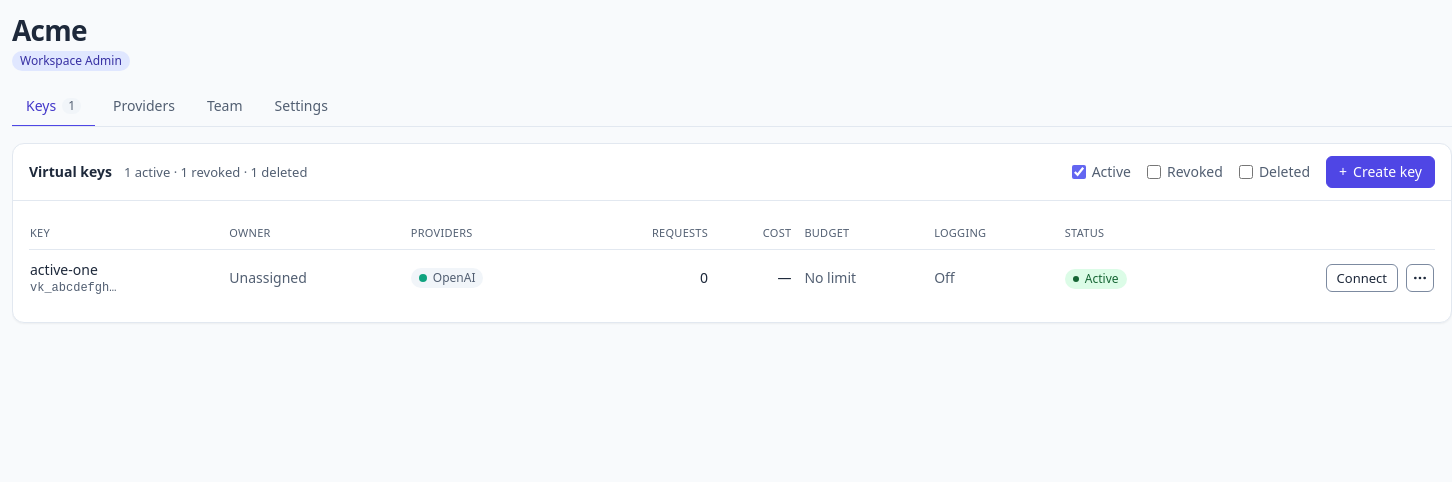
Scenario: Workspace -> deleted keys › keeps deleted keys out of the list until Deleted is ticked, then shows them without actions
The image size is (1452, 482).
expect the text "active-one" is shown: met, box [30,260,98,279]
expect the text "1 active · 1 revoked · 1 deleted" is shown: met, box [124,163,307,181]
Click the checkbox labelled "Deleted". click: (1246, 172)
box: [1239,165,1253,179]
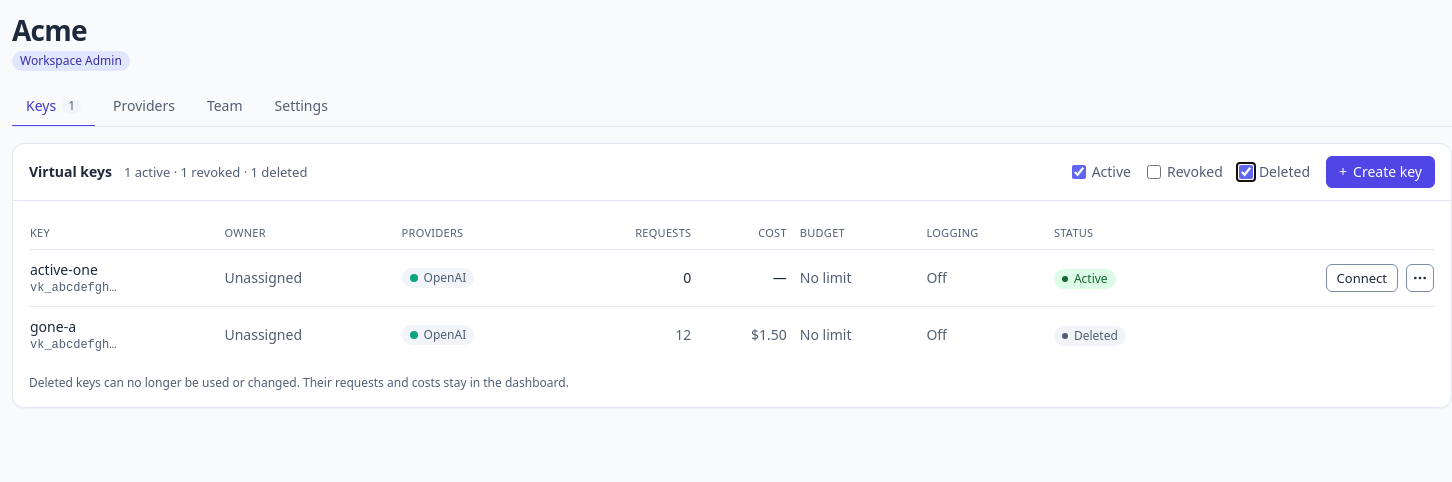
expect the text "gone-a" is shown: met, box [30,317,76,336]
expect the text "Deleted" is shown: met, box [1054,326,1126,346]
expect the text "12" is shown: met, box [568,307,703,363]
even with revoked keys shown, a deleted key is listed once
Click the checkbox labelled "Revoked". click: (1154, 172)
box: [1147,165,1161,179]
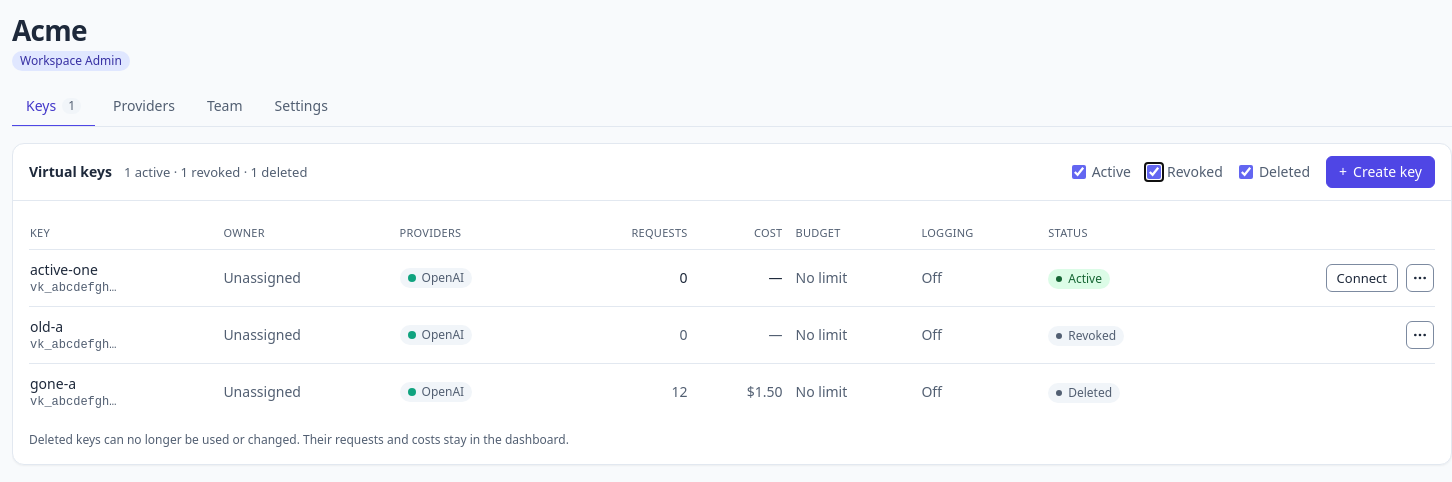
expect the text "gone-a" is shown once: met, box [30,374,76,393]
Click the checkbox labelled "Deleted". click: (1246, 172)
box: [1239,165,1253,179]
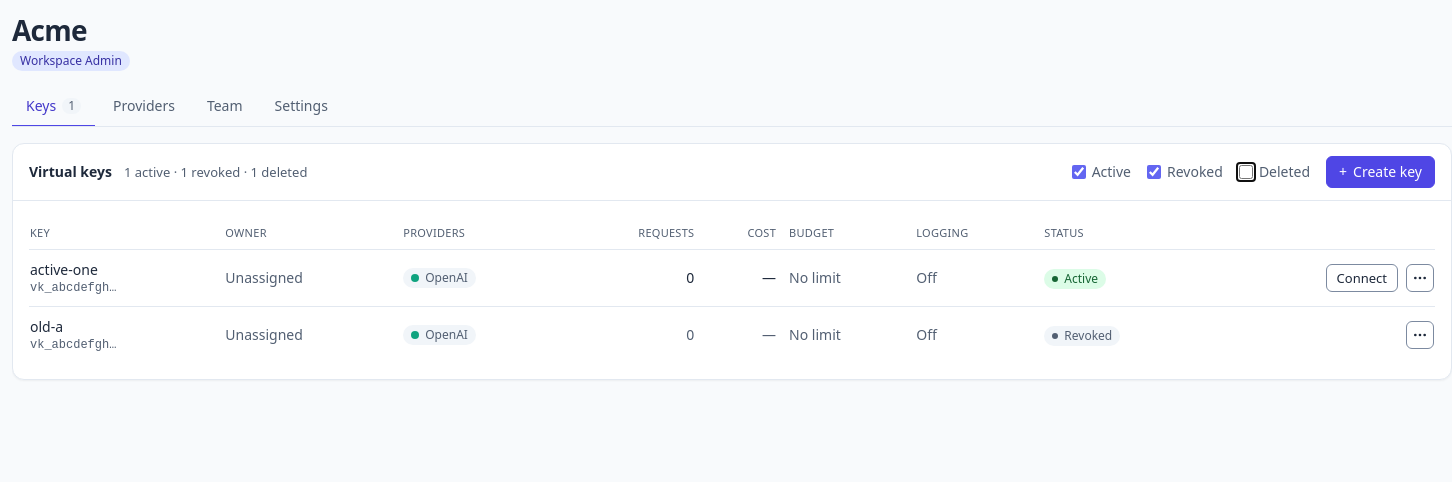
expect the text "gone-a" is gone: met
